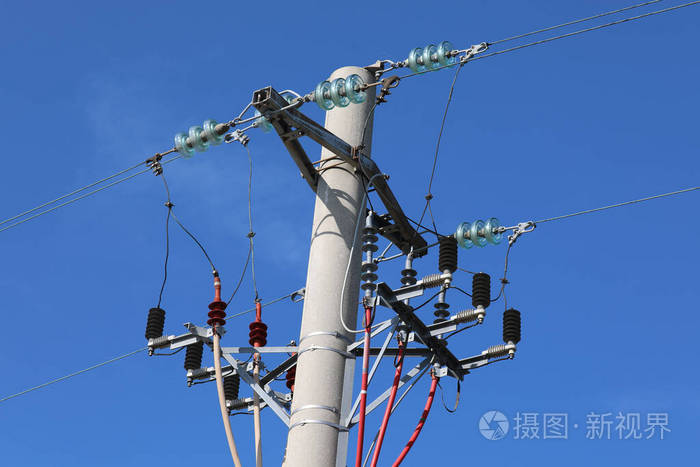insulator: (406, 39, 460, 73), (174, 119, 221, 157), (318, 74, 366, 110), (454, 219, 501, 248), (359, 224, 383, 254), (359, 261, 381, 292), (246, 320, 272, 346), (208, 297, 228, 328), (428, 300, 452, 322), (398, 264, 418, 286)
